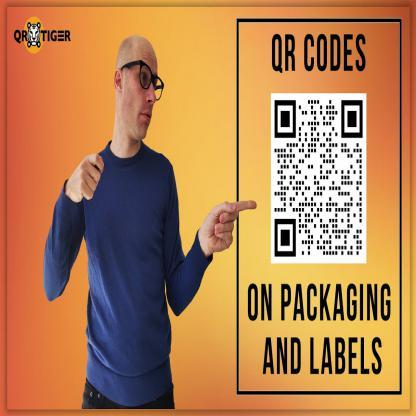qr_code: (274, 100, 363, 257)
